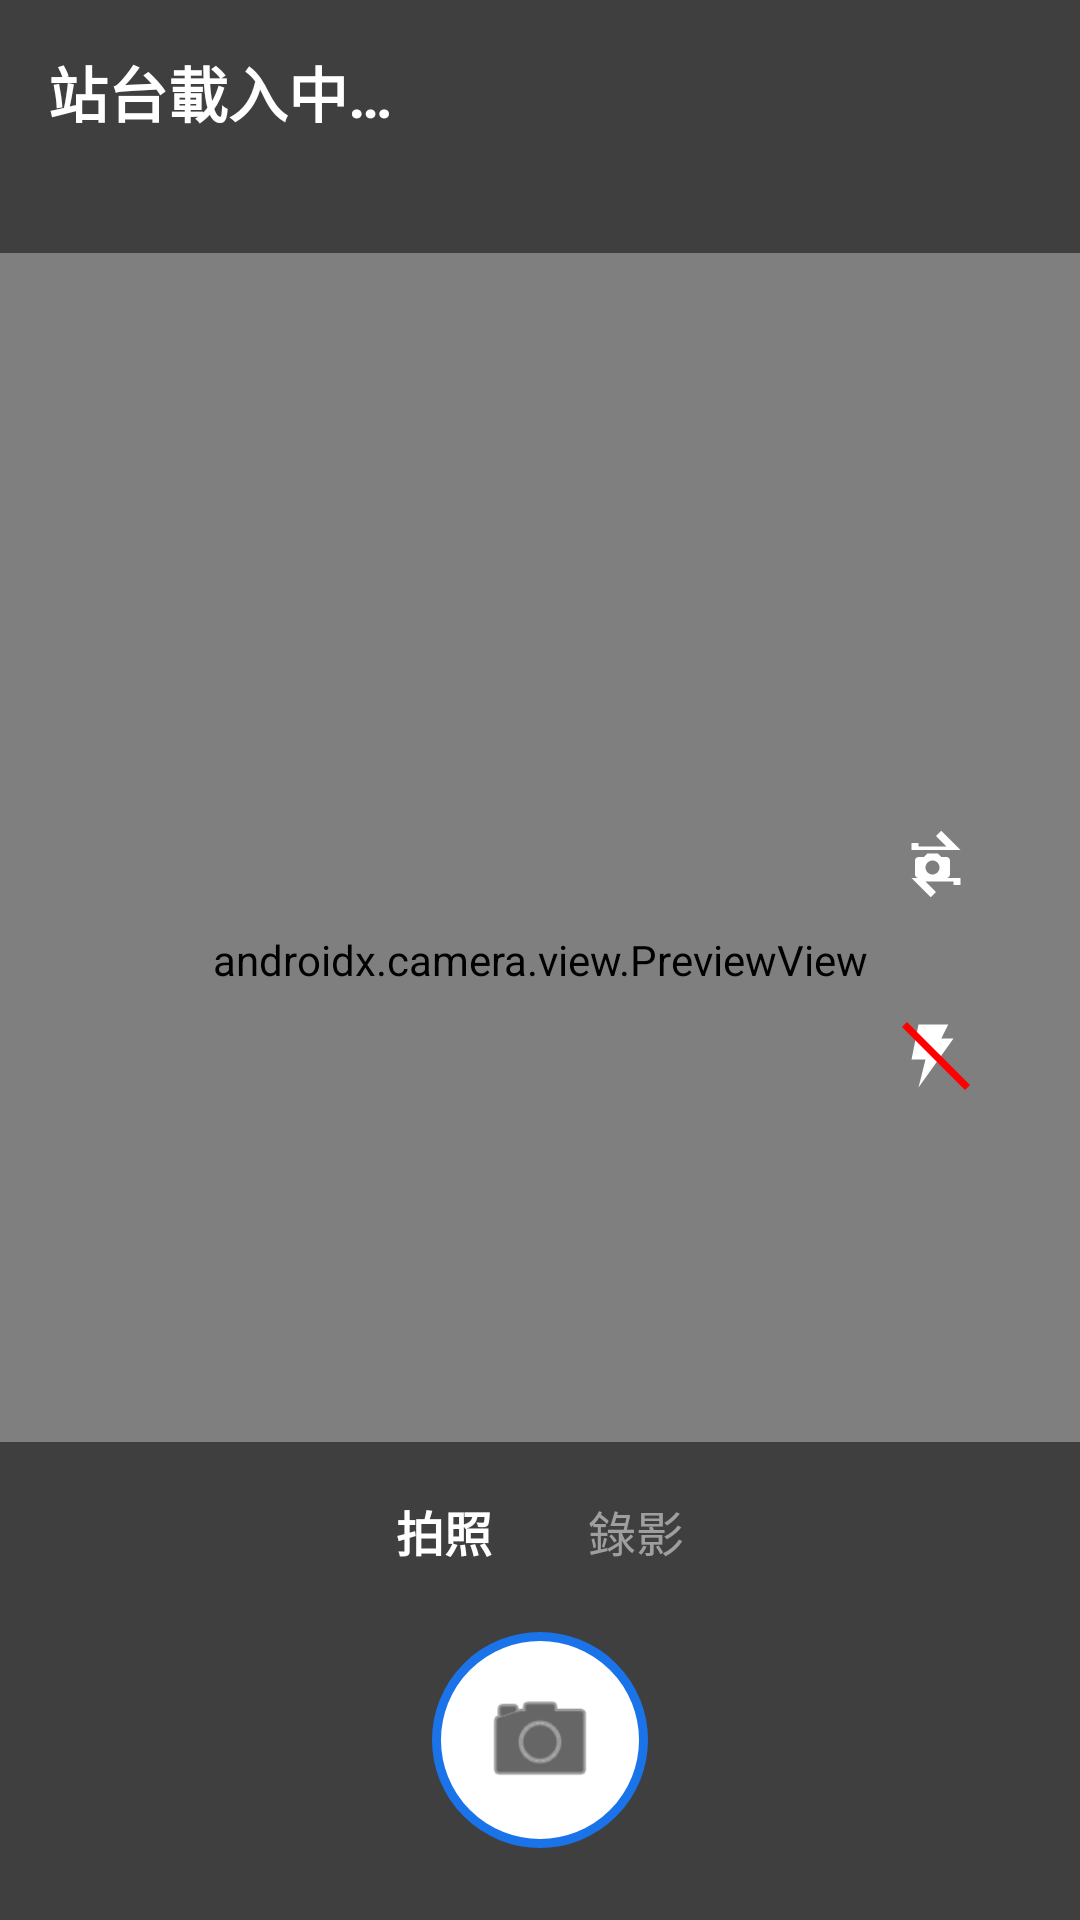

Screen size 1080px x 1920px. Icon name, then its box in pixels as (x1, y1, x2, y2):
翻轉鏡頭: (911, 831, 961, 897)
閃光燈: (902, 1022, 970, 1090)
